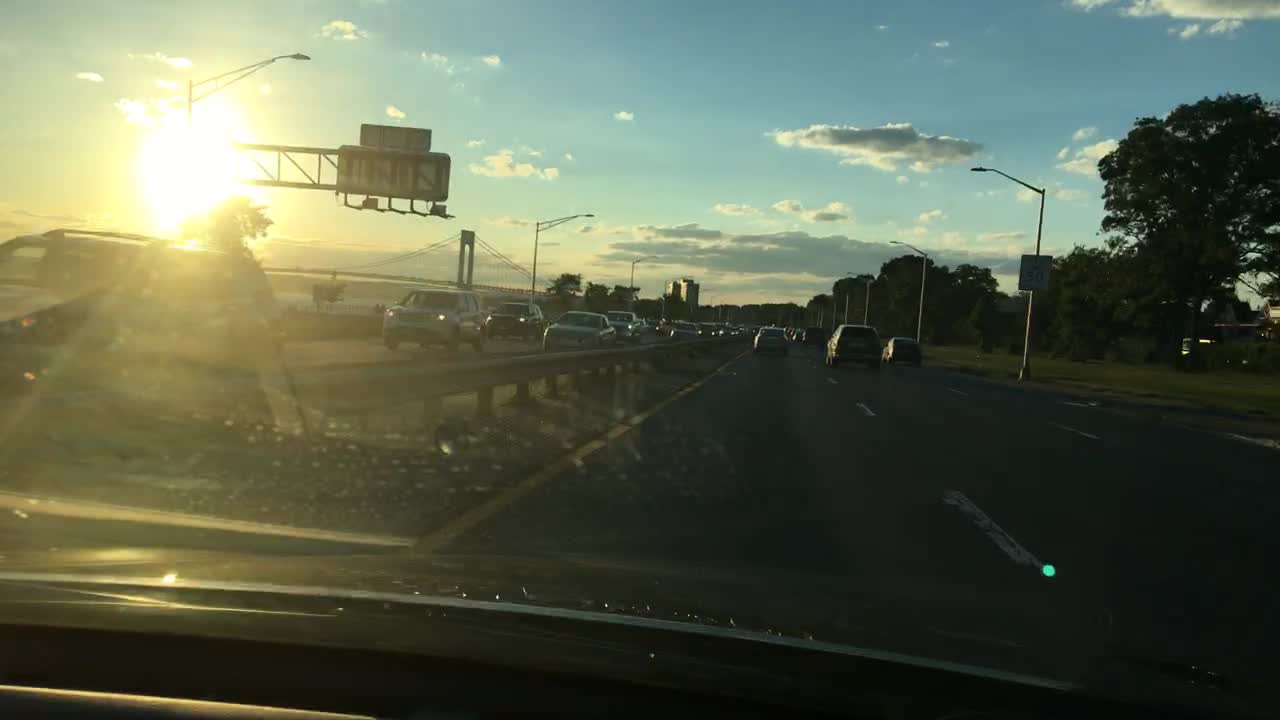car: (1, 224, 286, 386), (381, 287, 489, 354), (546, 310, 617, 353), (824, 324, 884, 371), (481, 302, 545, 343), (884, 335, 924, 369), (753, 326, 793, 357), (602, 309, 640, 338), (670, 320, 699, 341), (802, 326, 827, 348), (639, 314, 654, 332), (790, 326, 805, 343), (656, 319, 674, 333), (748, 324, 761, 343), (721, 321, 737, 335), (697, 321, 710, 334), (710, 322, 724, 334), (783, 325, 794, 334), (737, 323, 747, 332)
traffic sign: (334, 145, 450, 201), (383, 123, 430, 151), (1019, 254, 1053, 291)
